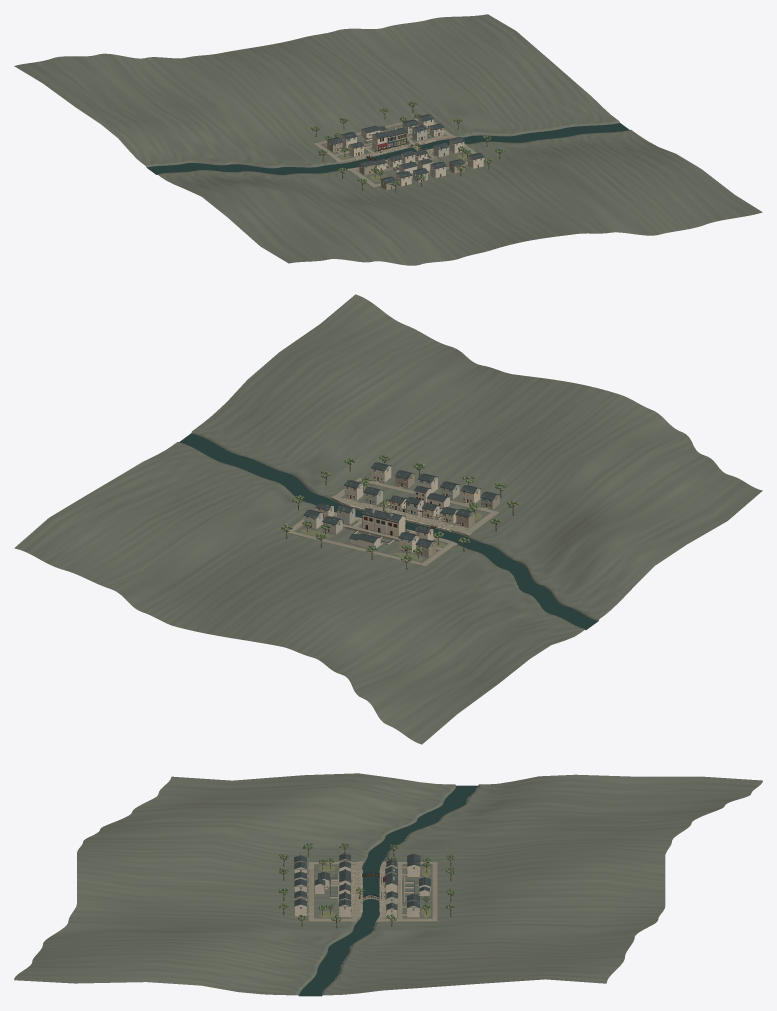
The model's file is space-06.glb.
3 views of the same model, one above another, from view 1: azimuth 30°, elevation 25°; view 2: azimuth 150°, elevation 25°; view 3: azimuth 270°, elevation 25° (orthographic). The views are drawn at different scales.
Parts seen in each view (by area): view 1: ROAM01_Surface / EXT_B02_DampMineralGround, ROAM01_Water, ROAM01_Surface / roof, ROAM01_Surface / paving, ROAM01_Surface / plaster_alt, ROAM01_Surface / plaster, ROAM01_Surface / stone, ROAM01_Surface / SPACE06_Leaf, ROAM01_Surface / SPACE06_SoftOchrePlaster; view 2: ROAM01_Surface / EXT_B02_DampMineralGround, ROAM01_Water, ROAM01_Surface / roof, ROAM01_Surface / paving, ROAM01_Surface / plaster_alt, ROAM01_Surface / plaster, ROAM01_Surface / stone, ROAM01_Surface / SPACE06_Leaf; view 3: ROAM01_Surface / EXT_B02_DampMineralGround, ROAM01_Water, ROAM01_Surface / paving, ROAM01_Surface / roof, ROAM01_Surface / plaster_alt, ROAM01_Surface / SPACE06_Leaf, ROAM01_Surface / plaster, ROAM01_Surface / stone.
Boxes of the visible parts, x1,y1,x2,y2 form: ROAM01_Surface / EXT_B02_DampMineralGround: (14, 14, 762, 265); ROAM01_Water: (147, 123, 629, 174); ROAM01_Surface / roof: (327, 114, 483, 183); ROAM01_Surface / paving: (313, 118, 485, 187); ROAM01_Surface / plaster_alt: (361, 117, 464, 177); ROAM01_Surface / plaster: (341, 128, 483, 186); ROAM01_Surface / stone: (314, 123, 483, 190); ROAM01_Surface / SPACE06_Leaf: (311, 100, 504, 185); ROAM01_Surface / SPACE06_SoftOchrePlaster: (327, 140, 464, 189); ROAM01_Surface / EXT_B02_DampMineralGround: (14, 294, 762, 744); ROAM01_Water: (179, 433, 598, 629); ROAM01_Surface / roof: (303, 462, 499, 547); ROAM01_Surface / paving: (285, 478, 499, 566); ROAM01_Surface / plaster_alt: (304, 477, 449, 548); ROAM01_Surface / plaster: (362, 466, 480, 552); ROAM01_Surface / stone: (287, 469, 499, 566); ROAM01_Surface / SPACE06_Leaf: (282, 455, 518, 561); ROAM01_Surface / EXT_B02_DampMineralGround: (14, 773, 762, 995); ROAM01_Water: (299, 785, 477, 996); ROAM01_Surface / paving: (307, 861, 437, 921); ROAM01_Surface / roof: (294, 853, 430, 909); ROAM01_Surface / plaster_alt: (295, 876, 430, 917); ROAM01_Surface / SPACE06_Leaf: (279, 843, 455, 921); ROAM01_Surface / plaster: (295, 865, 419, 916); ROAM01_Surface / stone: (295, 861, 436, 922).
Bounding box in the file's own units: 245 × 11.32 × 368.
